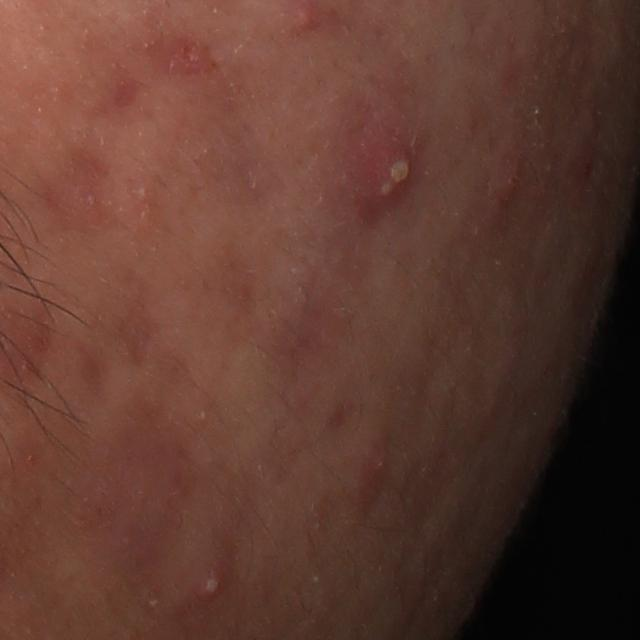papule: (358, 439, 393, 493), (495, 161, 524, 213), (291, 0, 319, 34)
pustule: (353, 128, 420, 218), (192, 561, 232, 603)
